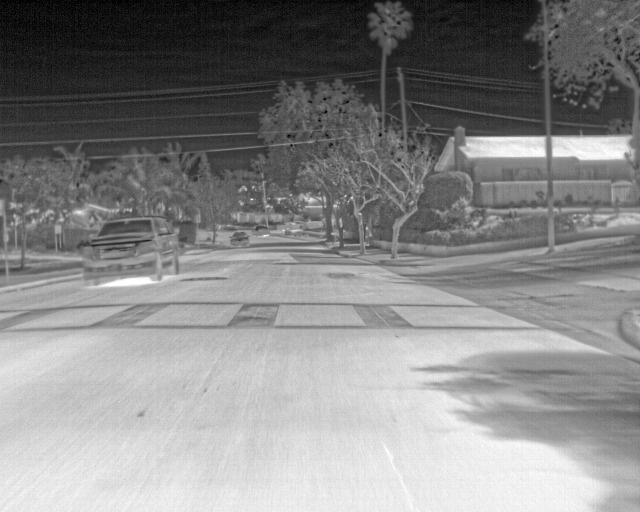car: (81, 217, 181, 288), (229, 232, 249, 250)
